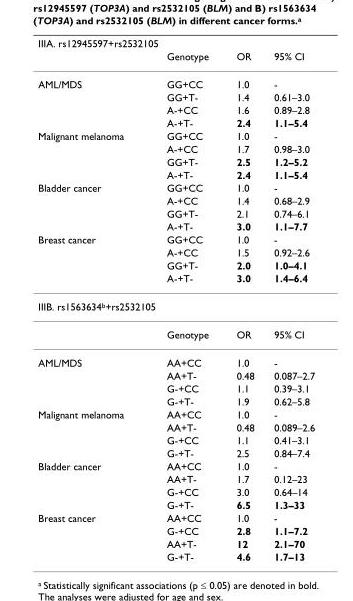table: (37, 36, 314, 562)
table column: (37, 36, 144, 562), (144, 36, 221, 562), (263, 36, 314, 562), (221, 36, 263, 562)
table column header: (37, 36, 314, 69)
table projected row header: (37, 291, 314, 319)
table row: (37, 319, 314, 348), (37, 291, 314, 319), (37, 69, 314, 90), (37, 49, 314, 69), (37, 271, 314, 291), (37, 348, 314, 368), (37, 115, 314, 129), (37, 36, 314, 49), (37, 90, 314, 103), (37, 141, 314, 154), (37, 154, 314, 167), (37, 167, 314, 180), (37, 180, 314, 193), (37, 193, 314, 206), (37, 206, 314, 219), (37, 219, 314, 232), (37, 232, 314, 245), (37, 245, 314, 258), (37, 258, 314, 271), (37, 368, 314, 381), (37, 381, 314, 394), (37, 394, 314, 407), (37, 407, 314, 420), (37, 420, 314, 433), (37, 433, 314, 446), (37, 446, 314, 459), (37, 459, 314, 472), (37, 472, 314, 485), (37, 497, 314, 510), (37, 510, 314, 523), (37, 523, 314, 536), (37, 536, 314, 549), (37, 549, 314, 562), (37, 103, 314, 115), (37, 129, 314, 141), (37, 485, 314, 497)
table spanning cell: (37, 69, 144, 129), (37, 232, 144, 291), (37, 348, 144, 407), (37, 180, 144, 232), (37, 407, 144, 459), (37, 510, 144, 562), (37, 129, 144, 180), (37, 459, 144, 510), (37, 36, 314, 49)
